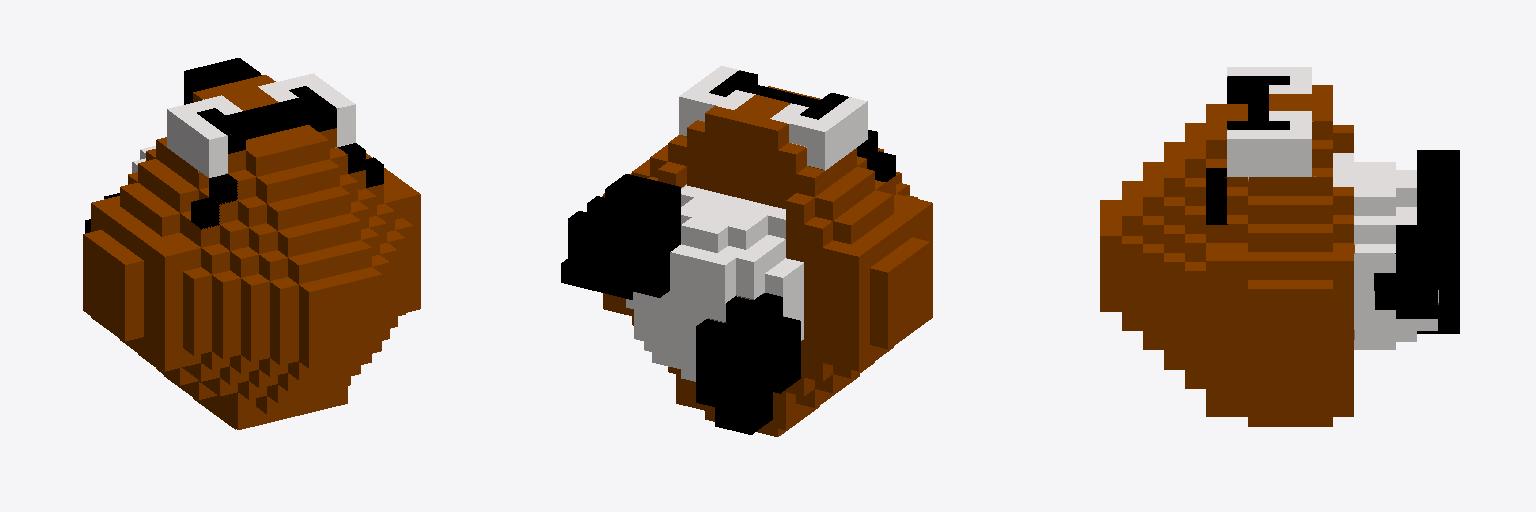
The picture shows the model from 3 angles: view 1: azimuth 30°, elevation 25°; view 2: azimuth 150°, elevation 25°; view 3: azimuth 270°, elevation 25°; orthographic projection.
Visible parts, largest first — view 1: goomba_2; view 2: goomba_2; view 3: goomba_2.
Boxes of the visible parts, <box> form: goomba_2: <box>83,58,420,429</box>; goomba_2: <box>561,66,932,436</box>; goomba_2: <box>1100,67,1459,426</box>.
Size of the model in its own units: 160 by 160 by 170.
1 materials, 1 textured.